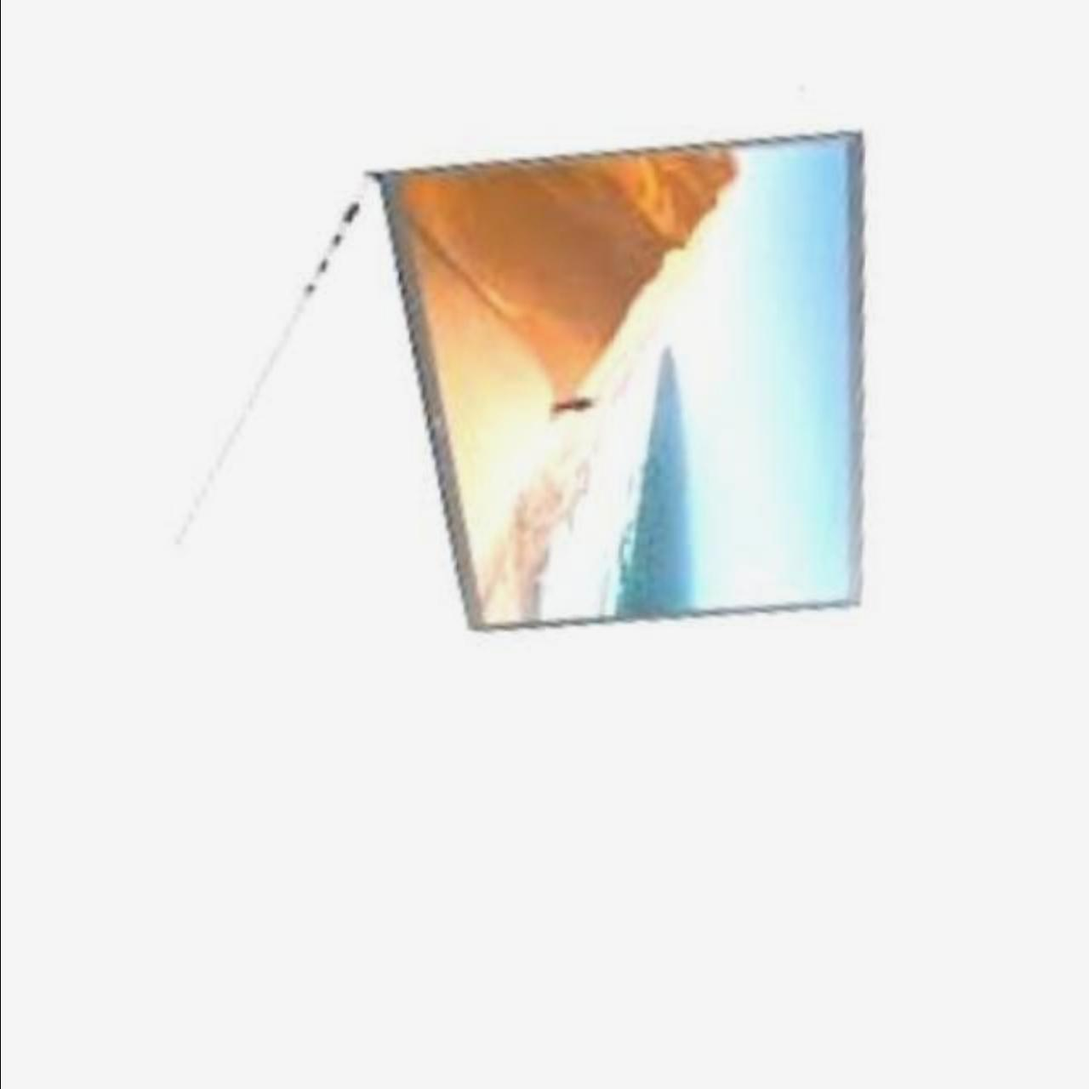laptop: (123, 34, 942, 1031)
